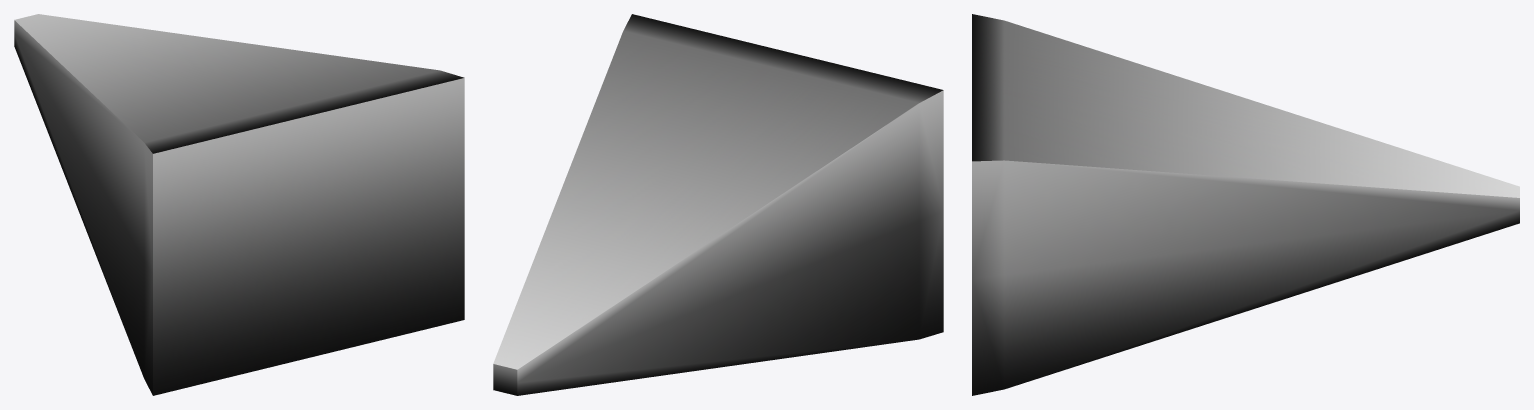
3 renders of one model, left to right at view 1: azimuth 30°, elevation 25°; view 2: azimuth 150°, elevation 25°; view 3: azimuth 270°, elevation 25°, orthographic. The views are drawn at different scales.
Parts seen in each view (by area): view 1: Box_030; view 2: Box_030; view 3: Box_030.
Boxes of the visible parts, bbox=[...] form: Box_030: bbox=[14, 14, 464, 395]; Box_030: bbox=[493, 14, 943, 395]; Box_030: bbox=[972, 14, 1519, 395].
Bounding box in the file's own units: 39.21 × 29.09 × 61.57.
